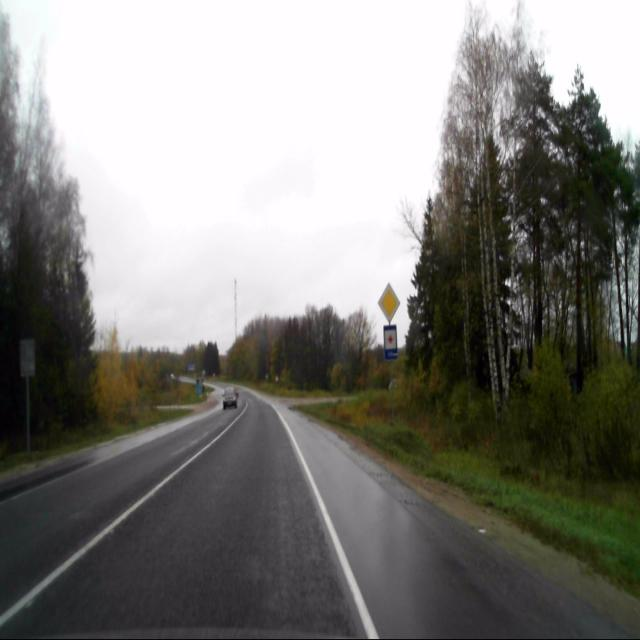road sign: (378, 282, 400, 324), (383, 324, 398, 359)
